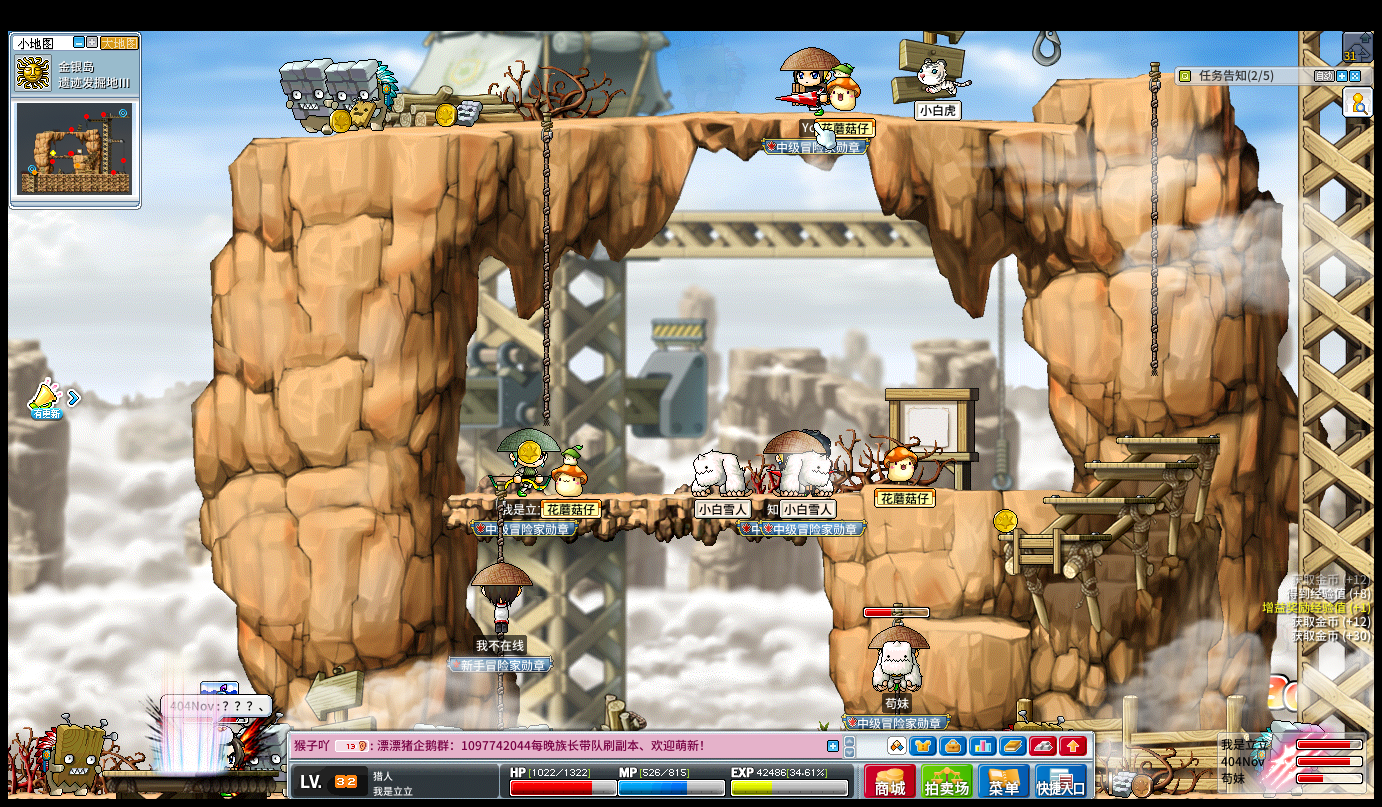floor: (229, 109, 1076, 144), (455, 492, 821, 502), (925, 617, 1030, 637), (1051, 73, 1187, 85), (1052, 71, 1167, 85), (1114, 434, 1221, 447), (932, 486, 1077, 495), (997, 532, 1111, 541), (1078, 461, 1197, 469), (1040, 496, 1155, 504)
monster: (31, 715, 115, 793), (330, 57, 398, 132), (277, 58, 332, 135), (1249, 723, 1303, 791)
rope: (1147, 59, 1161, 382), (539, 113, 551, 422), (492, 488, 505, 562)
